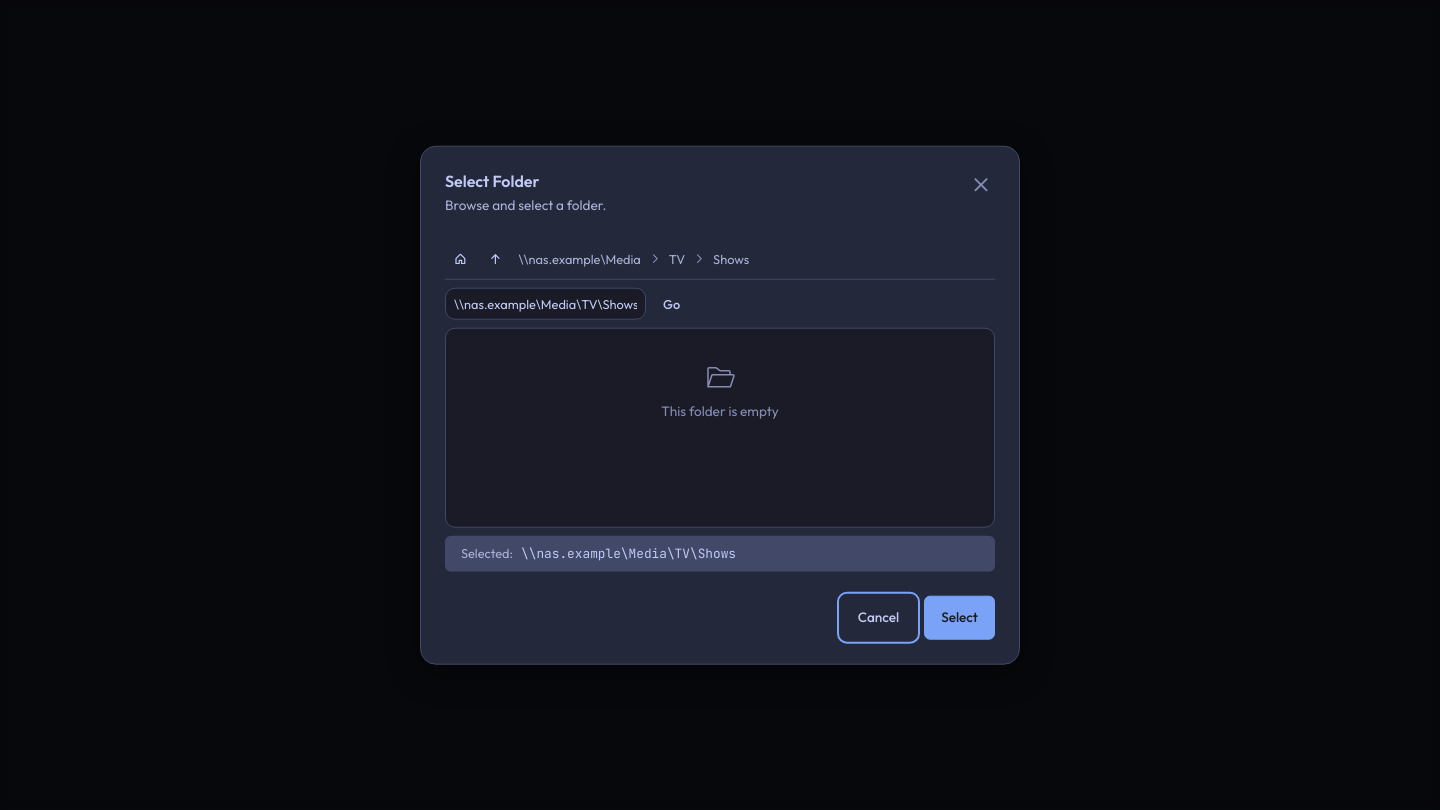
FileBrowser › treats a UNC share as the root for parent and breadcrumb navigation
Expected: the button "\\\\nas.example\\Media" is shown, x1=515 y1=246 x2=645 y2=273
Expected: the button "Shows" is shown, x1=709 y1=246 x2=753 y2=273
Click the button "TV". click: (677, 259)
box: x1=665 y1=246 x2=689 y2=273
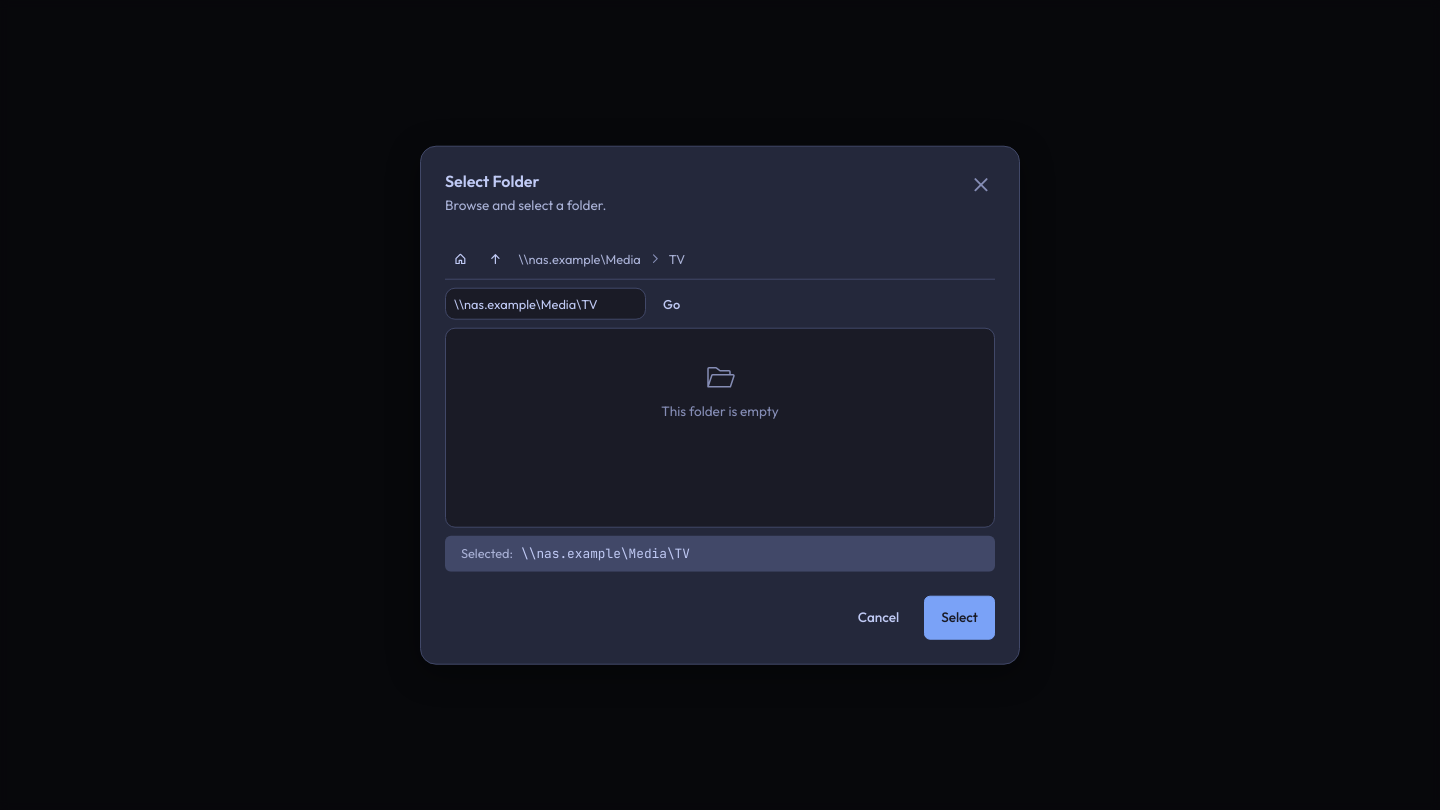
Expected: the field with placeholder "Enter path manually..." holds "\\\\nas.example\\Media\\TV", x1=446 y1=290 x2=645 y2=318
Click the button named "go to parent". click: (495, 259)
box: x1=480 y1=243 x2=511 y2=275
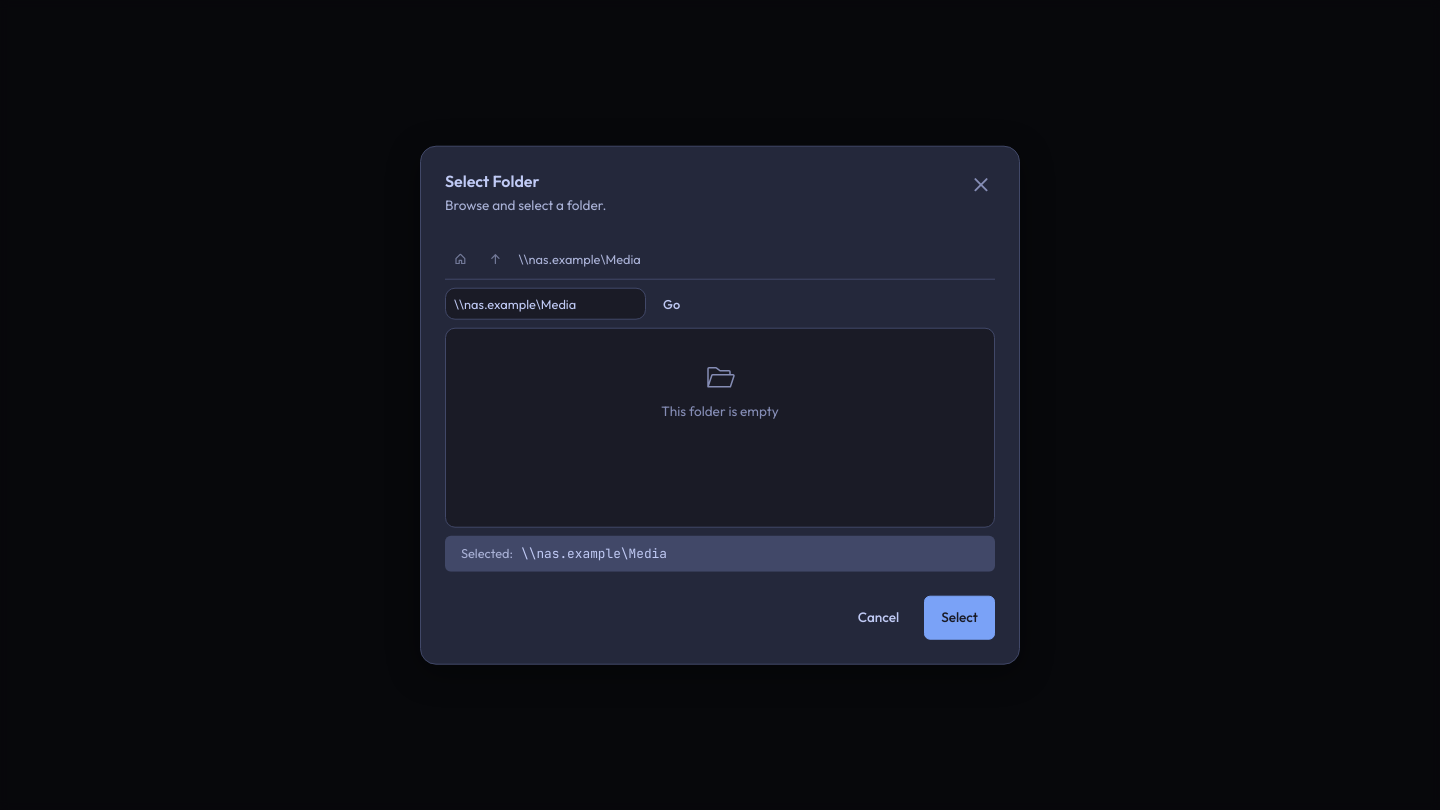
Expected: the field with placeholder "Enter path manually..." holds "\\\\nas.example\\Media", x1=446 y1=290 x2=645 y2=318
